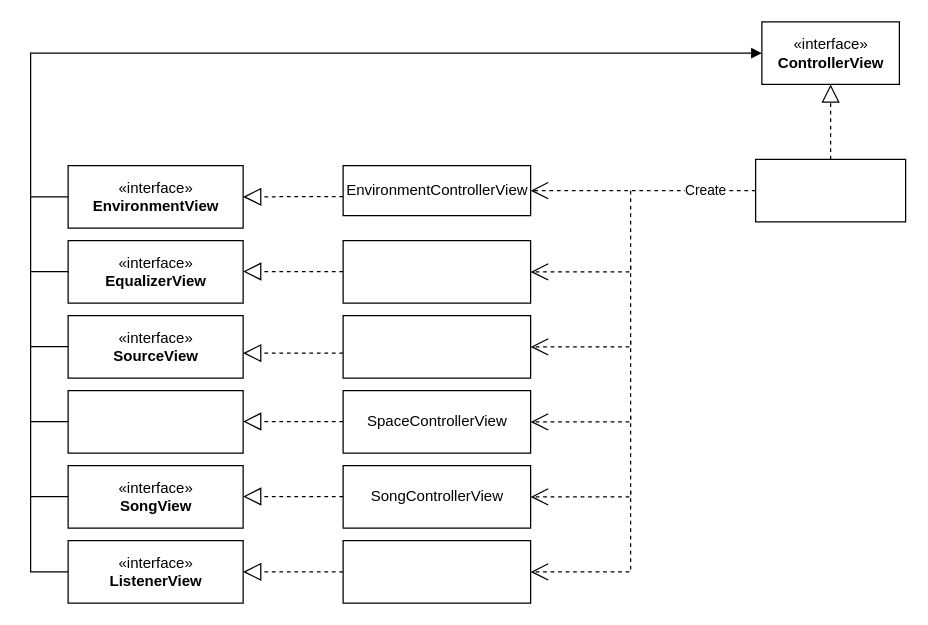
Image size: 928x625. Some labels were removed from this diagram. The shapes that lost their labels are listed below. From the top down, each one's centre as x and y in pixels, then its label:
(x=830, y=190): MainControllerView
(x=436, y=271): EqualizerControllerView
(x=436, y=346): SourceControllerView
(x=155, y=421): «interface» SpaceView
(x=436, y=571): ListenerControllerView
